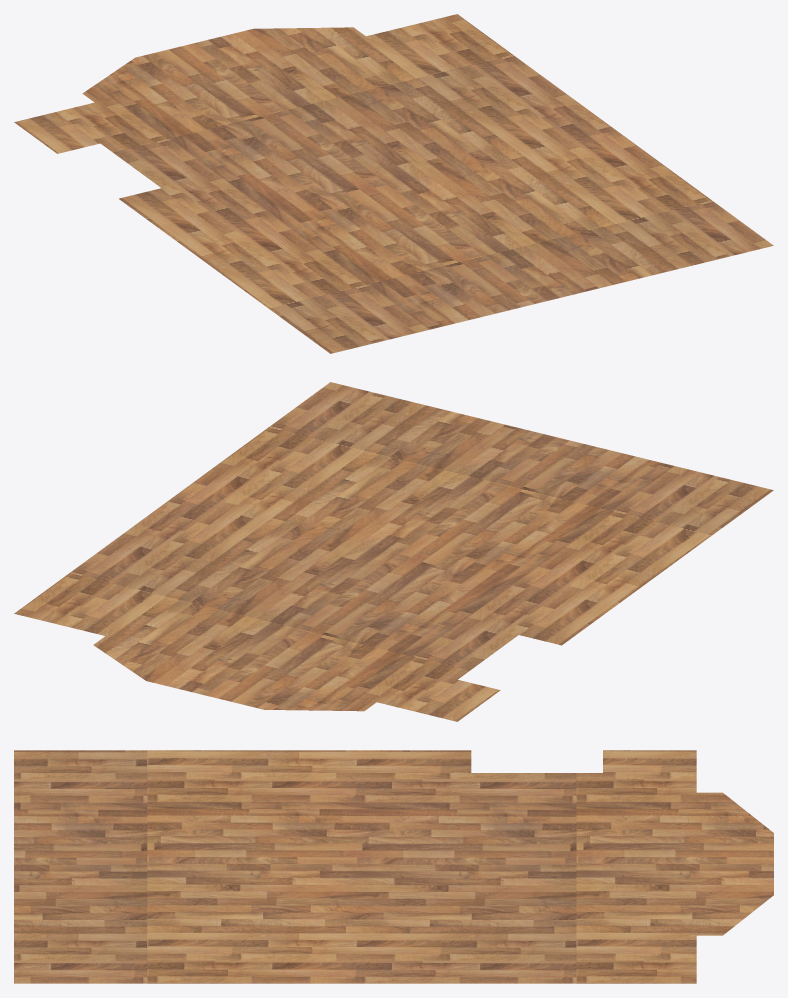
The model's file is Floor.obj.
The picture shows the model from 3 angles, top to bottom: view 1: azimuth 30°, elevation 25°; view 2: azimuth 150°, elevation 25°; view 3: azimuth 270°, elevation 25°; orthographic projection. The views are drawn at different scales.
Visible parts, largest first — view 1: Floor; view 2: Floor; view 3: Floor.
Part boxes in pixels (bbox=[...]): Floor: bbox=[14, 14, 773, 353]; Floor: bbox=[14, 382, 773, 721]; Floor: bbox=[14, 750, 773, 983].
Size of the model in its own units: 5.47 by 9.98e-07 by 7.53.
